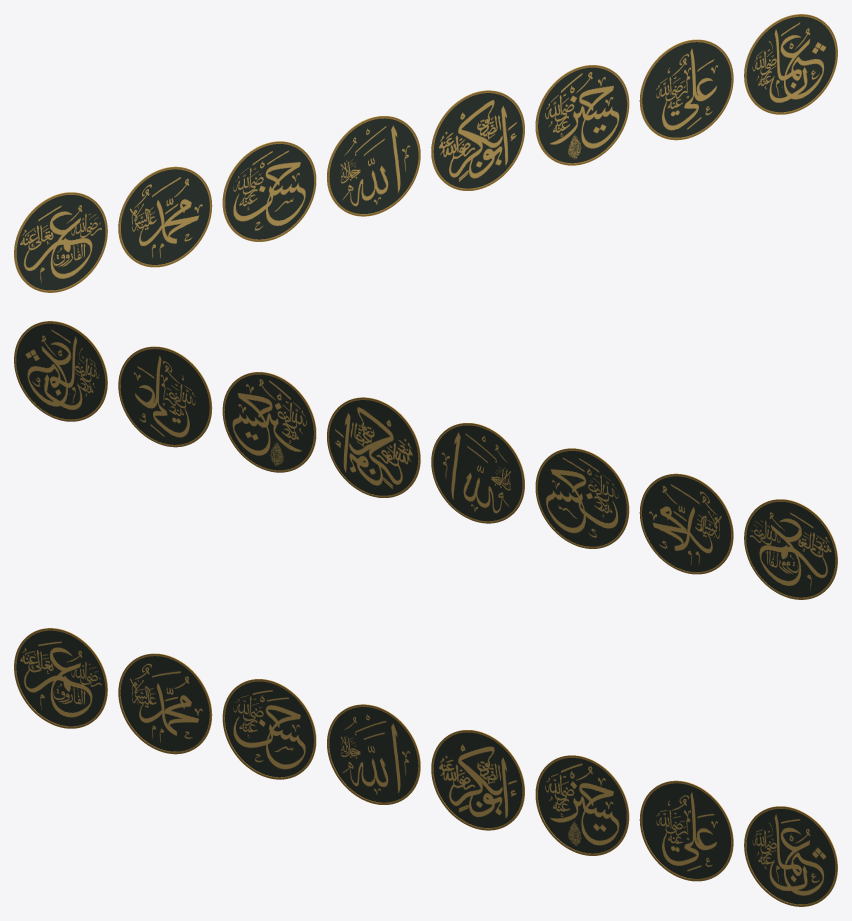
The model's file is Kart05_Levha.FBX.
The picture shows the model from 3 angles, top to bottom: view 1: azimuth 30°, elevation 25°; view 2: azimuth 150°, elevation 25°; view 3: azimuth 330°, elevation 25°; orthographic projection.
Parts seen in each view (by area): view 1: Circle023, Circle019, Circle016, Circle022, Circle020, Circle021, Circle017, Circle018, LevhaIsleme005, LevhaIsleme002, LevhaIsleme006, LevhaIsleme001 (+4 smaller); view 2: Circle023, Circle019, Circle018, Circle016, Circle020, Circle022, Circle021, Circle017, LevhaIsleme001, LevhaIsleme006, LevhaIsleme002, LevhaIsleme005 (+4 smaller); view 3: Circle016, Circle020, Circle017, Circle023, Circle019, Circle022, Circle018, Circle021, LevhaIsleme005, LevhaIsleme002, LevhaIsleme001, LevhaIsleme006 (+4 smaller).
Part boxes in pixels (bbox=[...]): Circle023: bbox=[746, 16, 835, 112]; Circle019: bbox=[329, 118, 418, 213]; Circle016: bbox=[16, 195, 105, 290]; Circle022: bbox=[642, 42, 731, 137]; Circle020: bbox=[433, 93, 522, 188]; Circle021: bbox=[538, 67, 626, 163]; Circle017: bbox=[121, 169, 209, 264]; Circle018: bbox=[225, 144, 313, 239]; LevhaIsleme005: bbox=[535, 65, 629, 165]; LevhaIsleme002: bbox=[222, 141, 316, 241]; LevhaIsleme006: bbox=[639, 39, 733, 140]; LevhaIsleme001: bbox=[118, 166, 212, 267]; Circle023: bbox=[16, 323, 105, 419]; Circle019: bbox=[433, 425, 522, 521]; Circle018: bbox=[537, 451, 626, 546]; Circle016: bbox=[746, 502, 835, 597]; Circle020: bbox=[329, 400, 418, 495]; Circle022: bbox=[120, 349, 209, 444]; Circle021: bbox=[224, 374, 313, 470]; Circle017: bbox=[642, 476, 730, 571]; LevhaIsleme001: bbox=[639, 473, 733, 574]; LevhaIsleme006: bbox=[118, 346, 212, 447]; LevhaIsleme002: bbox=[535, 448, 629, 548]; LevhaIsleme005: bbox=[222, 372, 316, 472]; Circle016: bbox=[16, 630, 105, 726]; Circle020: bbox=[433, 732, 522, 827]; Circle017: bbox=[120, 656, 209, 751]; Circle023: bbox=[746, 809, 835, 904]; Circle019: bbox=[329, 707, 418, 802]; Circle022: bbox=[642, 783, 730, 878]; Circle018: bbox=[225, 681, 313, 777]; Circle021: bbox=[538, 758, 626, 853]; LevhaIsleme005: bbox=[535, 755, 629, 855]; LevhaIsleme002: bbox=[222, 679, 316, 779]; LevhaIsleme001: bbox=[118, 653, 212, 754]; LevhaIsleme006: bbox=[639, 780, 733, 881].
Bounding box in the file's own units: 2622 × 298 × 2.3.
9 materials, 9 textured.
